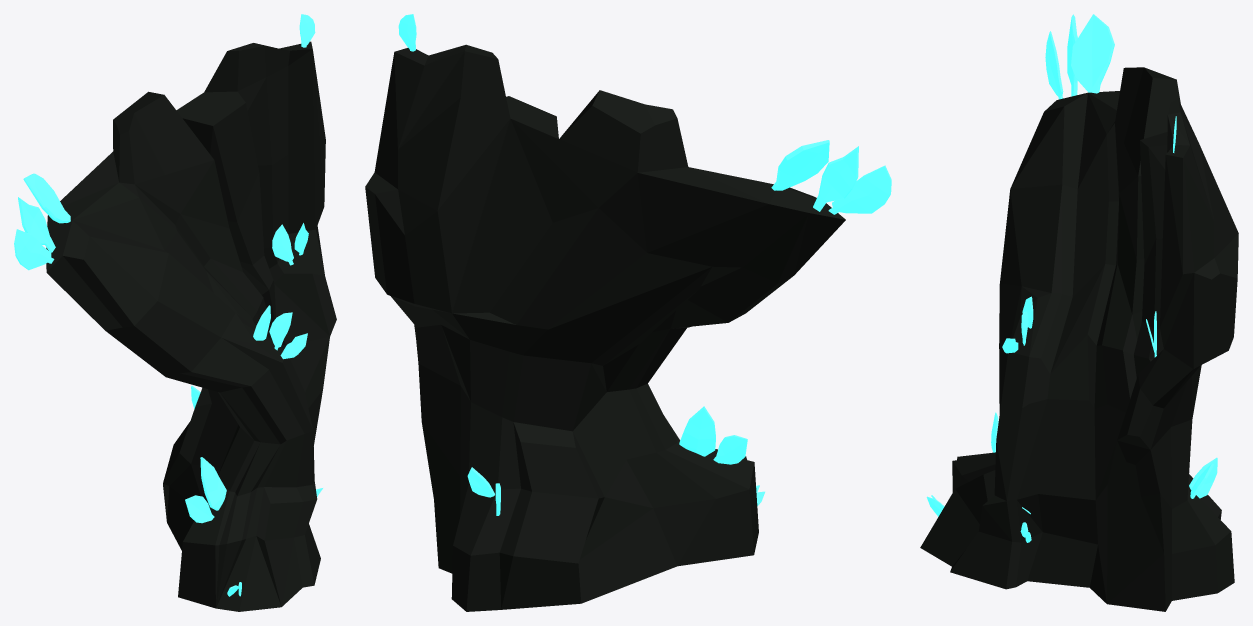
The model's file is SM_Relief_Element_06.glb.
3 views of the same model, side by side, from view 1: azimuth 30°, elevation 25°; view 2: azimuth 150°, elevation 25°; view 3: azimuth 270°, elevation 25° (orthographic). The views are drawn at different scales.
Visible parts, largest first — view 1: SM_Relief_Element_06; view 2: SM_Relief_Element_06; view 3: SM_Relief_Element_06.
Boxes of the visible parts, x1,y1,x2,y2 form: SM_Relief_Element_06: (14,14,336,611); SM_Relief_Element_06: (365,14,891,611); SM_Relief_Element_06: (920,14,1238,611).
Size of the model in its own units: 2.07 by 2.49 by 1.42.
2 materials, 1 textured.
